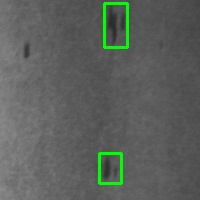inclusion: (104, 3, 127, 47), (99, 153, 121, 183), (20, 39, 32, 61)
